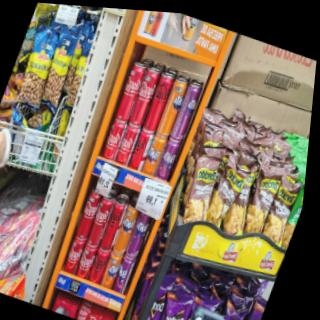beverage: (165, 78, 204, 148), (127, 60, 164, 131), (153, 72, 191, 140), (112, 57, 150, 125), (140, 68, 177, 136), (97, 190, 131, 254), (84, 188, 118, 250), (108, 198, 142, 257), (71, 187, 103, 245), (122, 205, 154, 261), (110, 121, 143, 168), (153, 133, 182, 183), (139, 130, 169, 178), (127, 125, 158, 171), (99, 115, 129, 161), (85, 242, 114, 288), (109, 251, 138, 296), (98, 247, 125, 292), (74, 241, 99, 281), (62, 236, 86, 275)
food-box: (177, 153, 224, 234), (200, 159, 251, 233), (238, 170, 284, 247), (260, 174, 304, 245), (154, 286, 200, 320), (137, 279, 173, 320), (207, 301, 250, 320)
